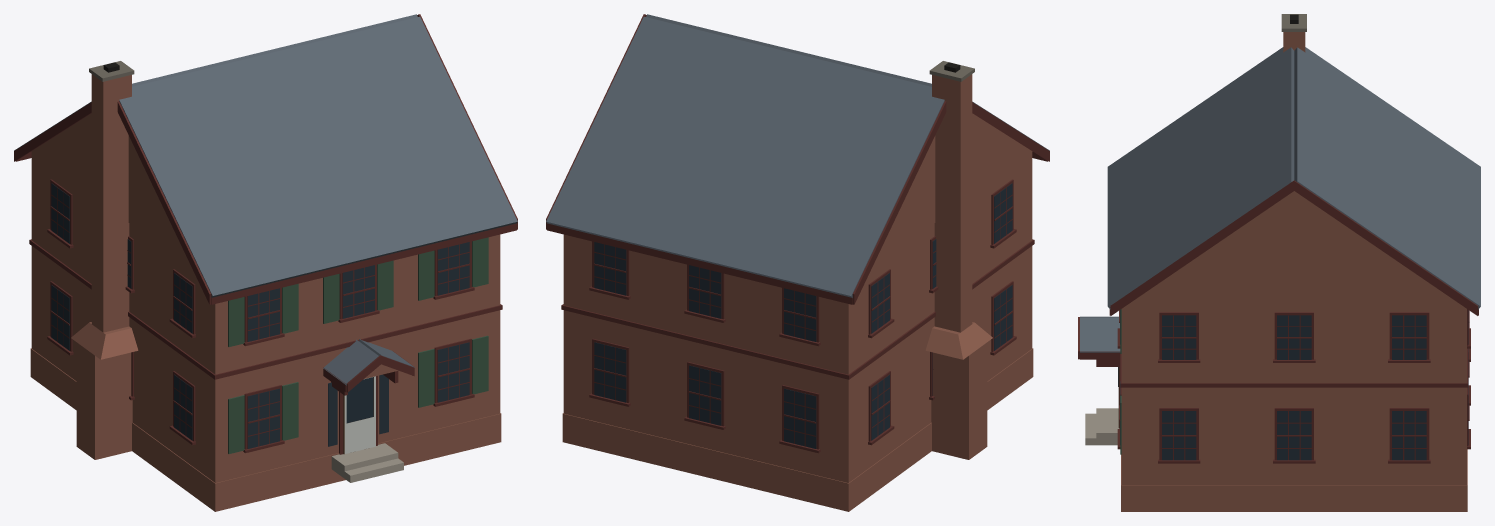
File: brick-colonial-revival-house-0002.glb
The picture shows the model from 3 angles, left to right: view 1: azimuth 30°, elevation 25°; view 2: azimuth 150°, elevation 25°; view 3: azimuth 270°, elevation 25°; orthographic projection. The views are drawn at different scales.
Parts seen in each view (by area): view 1: kit-brick-colonial-revival-house-0002; view 2: kit-brick-colonial-revival-house-0002; view 3: kit-brick-colonial-revival-house-0002.
Part boxes in pixels (x1,y1,x2,y2): kit-brick-colonial-revival-house-0002: [14, 14, 517, 511]; kit-brick-colonial-revival-house-0002: [546, 14, 1049, 511]; kit-brick-colonial-revival-house-0002: [1078, 14, 1480, 511].
Size of the model in its own units: 9.97 by 10.88 by 11.08.
